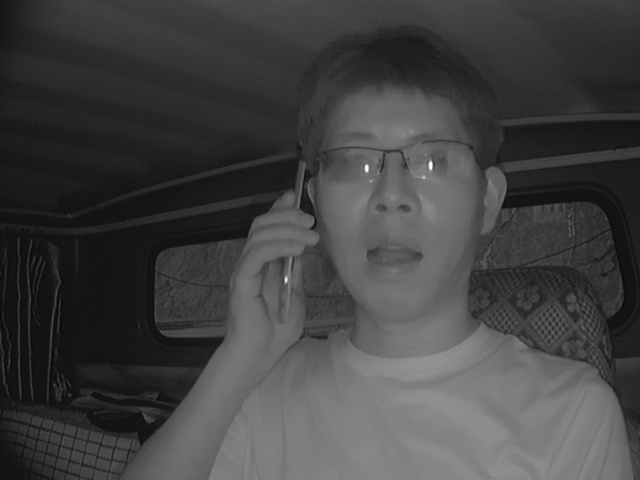hand: (221, 193, 310, 351)
